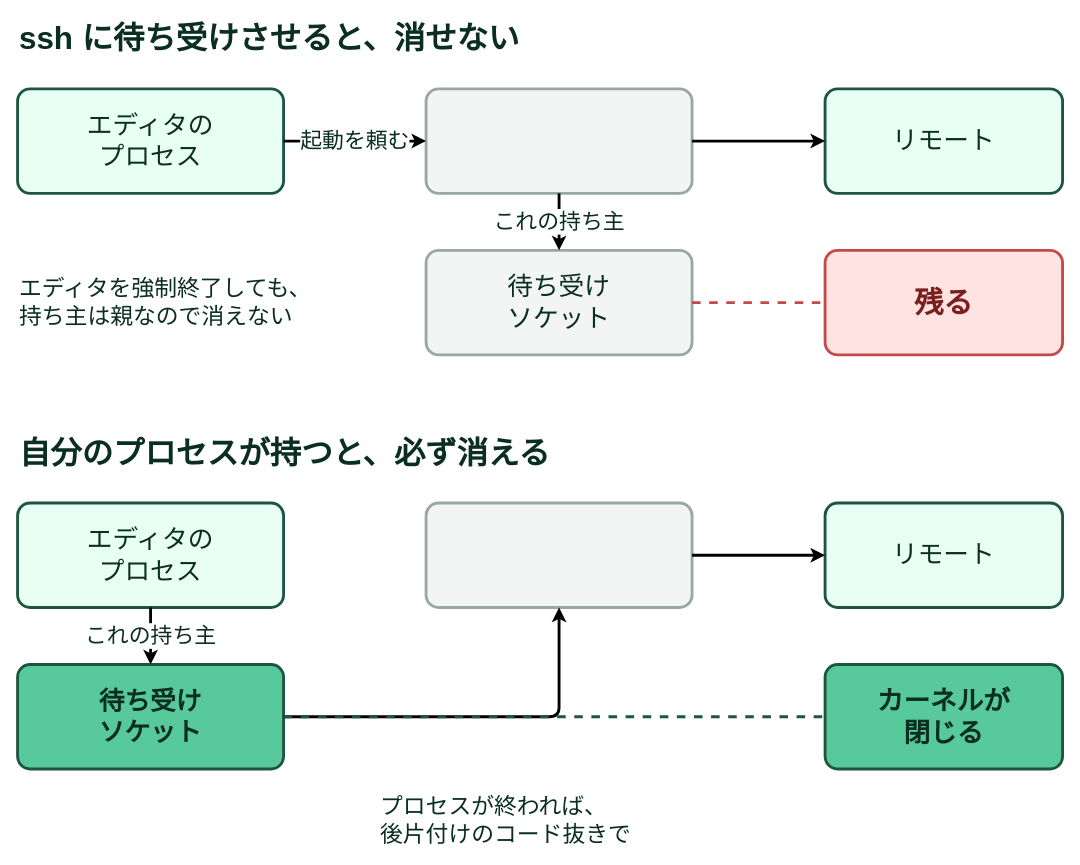
This 1080x865 diagram has some shape labels left out. Here are the shapes that lost their labels. From the top down, the centre of each, then its label:
[558,140]: 多重化の親 (ssh)
[558,554]: ssh -W (接続ごと)
